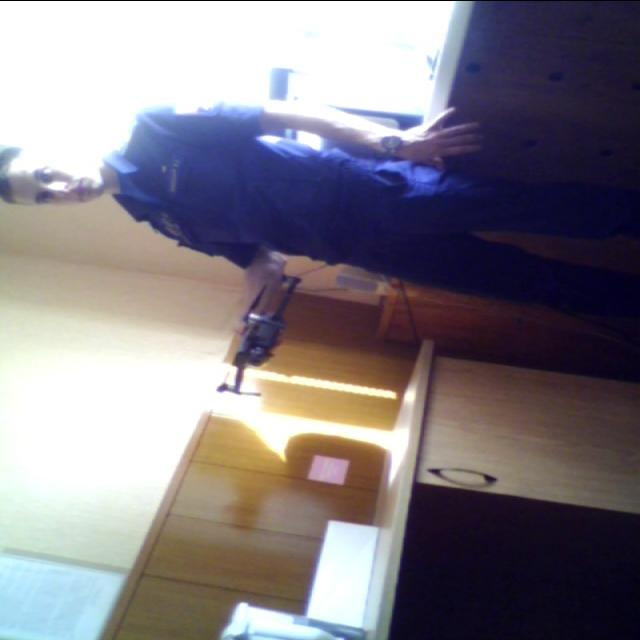drone: (202, 263, 316, 408)
